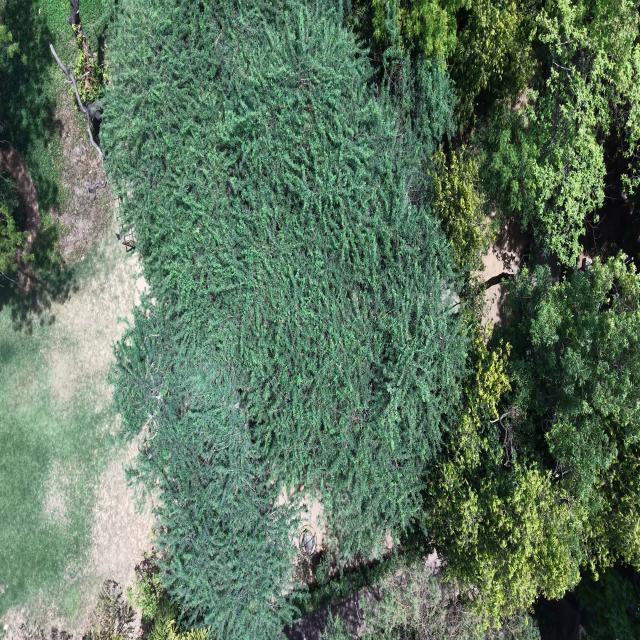DRY_AREA: (0, 94, 153, 637), (39, 96, 144, 415), (0, 445, 153, 637), (48, 90, 112, 263), (49, 94, 113, 263), (483, 220, 565, 324), (483, 221, 530, 324), (483, 223, 530, 324), (285, 588, 371, 639), (0, 144, 40, 252)
VEGETATION_TREE: (0, 0, 639, 639), (101, 0, 639, 638), (102, 2, 465, 637), (0, 0, 133, 634), (424, 254, 639, 620), (354, 0, 639, 264), (432, 3, 638, 265), (0, 238, 133, 628), (423, 335, 578, 621), (480, 0, 639, 265), (0, 0, 113, 327), (502, 254, 639, 501), (0, 0, 102, 271), (347, 0, 538, 133), (302, 553, 540, 639), (0, 0, 73, 215), (361, 558, 539, 639), (448, 0, 537, 132), (50, 5, 108, 158), (430, 147, 495, 283), (82, 580, 214, 639), (535, 565, 639, 639), (128, 554, 216, 639), (588, 440, 639, 575), (371, 0, 466, 60), (576, 566, 639, 639), (83, 580, 135, 639), (71, 26, 108, 106), (127, 550, 166, 622), (0, 172, 26, 277), (0, 172, 25, 276), (151, 619, 213, 639), (0, 24, 19, 66), (320, 613, 349, 639)
